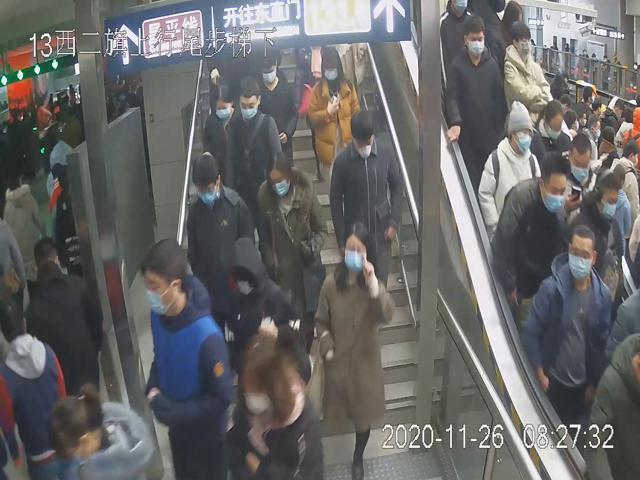person: (140, 232, 231, 480), (311, 218, 397, 478), (519, 220, 611, 429), (253, 150, 330, 383), (329, 101, 405, 293), (187, 146, 254, 349), (490, 151, 572, 304), (441, 12, 506, 202), (215, 233, 301, 356), (297, 44, 363, 188), (473, 98, 543, 232), (225, 73, 282, 203), (255, 49, 298, 192), (202, 79, 243, 177)
